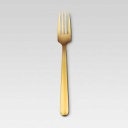Fork: (53, 7, 75, 124)
